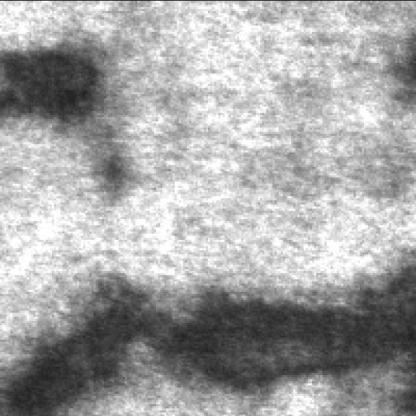patches: (139, 264, 414, 406), (0, 281, 162, 416), (0, 48, 98, 129)
